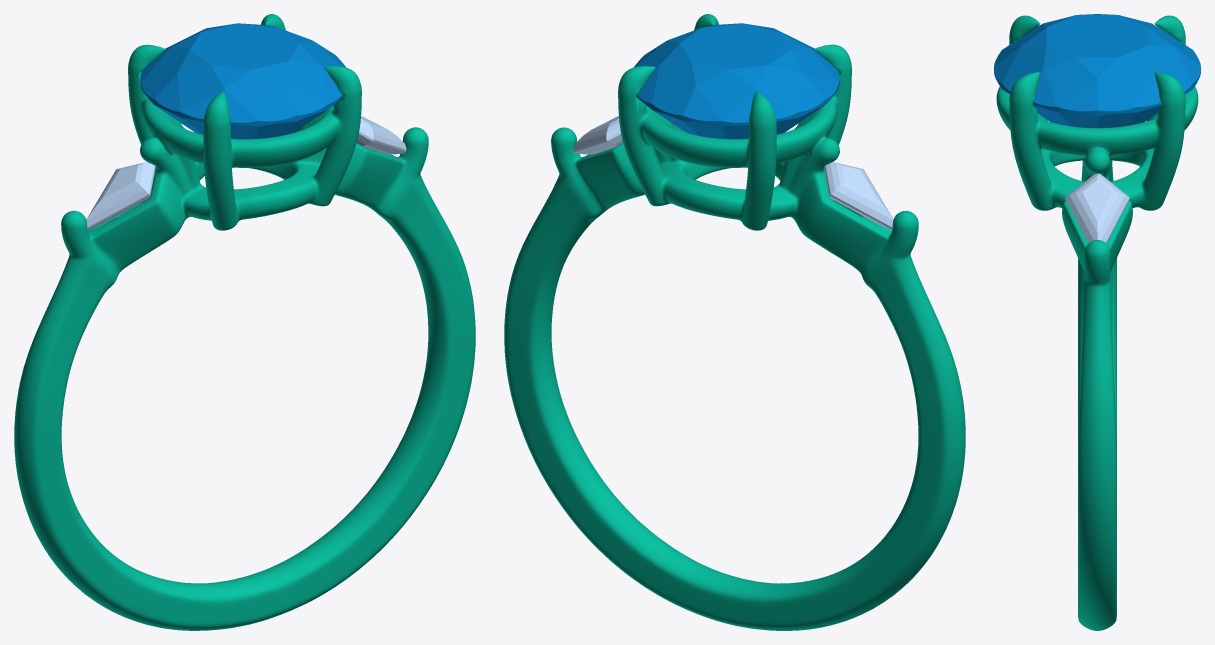
Rendered from BE1D6317_RD_200ct_RENDER.glb.
The picture shows the model from 3 angles, left to right: view 1: azimuth 30°, elevation 25°; view 2: azimuth 150°, elevation 25°; view 3: azimuth 270°, elevation 25°; orthographic projection.
Visible parts, largest first — view 1: Metal 01, CS_Diamond_Round, Diamond_Marquise_Side, Diamond_Marquise_Side.001; view 2: Metal 01, CS_Diamond_Round, Diamond_Marquise_Side, Diamond_Marquise_Side.001; view 3: Metal 01, CS_Diamond_Round, Diamond_Marquise_Side.001.
Boxes of the visible parts, x1=… form: Metal 01: x1=14, y1=14, x2=475, y2=630; CS_Diamond_Round: x1=140, y1=23, x2=345, y2=139; Diamond_Marquise_Side: x1=86, y1=162, x2=155, y2=230; Diamond_Marquise_Side.001: x1=356, y1=116, x2=406, y2=154; Metal 01: x1=504, y1=14, x2=965, y2=630; CS_Diamond_Round: x1=634, y1=23, x2=839, y2=139; Diamond_Marquise_Side: x1=824, y1=162, x2=893, y2=230; Diamond_Marquise_Side.001: x1=573, y1=116, x2=622, y2=154; Metal 01: x1=996, y1=15, x2=1198, y2=630; CS_Diamond_Round: x1=994, y1=14, x2=1200, y2=128; Diamond_Marquise_Side.001: x1=1065, y1=173, x2=1129, y2=243.
Bounding box in the file's own units: 20.1 × 24.3 × 8.
